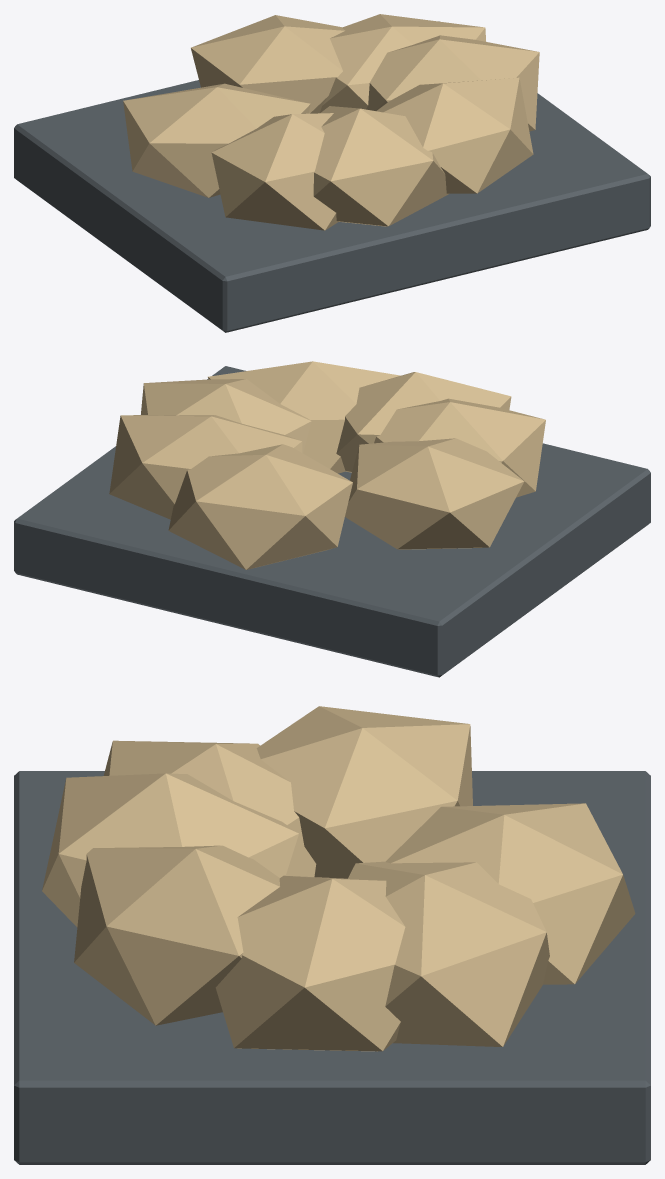
Rendered from sand.glb.
3 renders of one model, top to bottom at view 1: azimuth 30°, elevation 25°; view 2: azimuth 150°, elevation 25°; view 3: azimuth 270°, elevation 25°, orthographic. The views are drawn at different scales.
Parts seen in each view (by area): view 1: sand / Sand and paper, sand / Graphite enamel; view 2: sand / Sand and paper, sand / Graphite enamel; view 3: sand / Sand and paper, sand / Graphite enamel.
Boxes of the visible parts, bbox=[...] form: sand / Sand and paper: bbox=[123, 14, 539, 230]; sand / Graphite enamel: bbox=[14, 21, 650, 332]; sand / Sand and paper: bbox=[109, 361, 545, 569]; sand / Graphite enamel: bbox=[14, 366, 650, 677]; sand / Sand and paper: bbox=[42, 706, 635, 1051]; sand / Graphite enamel: bbox=[14, 771, 650, 1164].
Bounding box in the file's own units: 0.28 × 0.0899 × 0.24.
